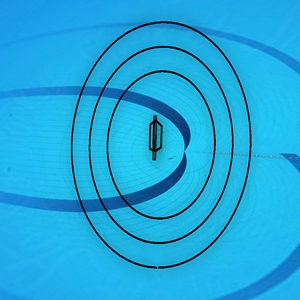circle: (71, 20, 250, 270)
submarine: (149, 116, 163, 162)
